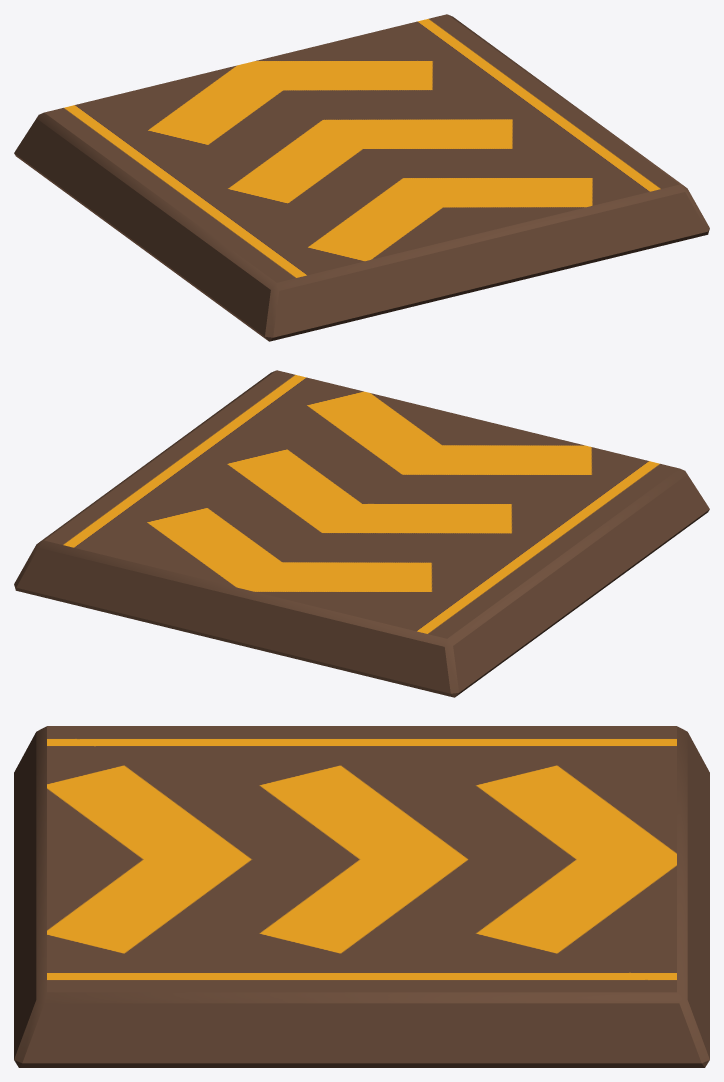
Rendered from Booster_01.fbx.
3 renders of one model, top to bottom at view 1: azimuth 30°, elevation 25°; view 2: azimuth 150°, elevation 25°; view 3: azimuth 270°, elevation 25°, orthographic. The views are drawn at different scales.
Visible parts, largest first — view 1: Obstacle_Booster_01; view 2: Obstacle_Booster_01; view 3: Obstacle_Booster_01.
Boxes of the visible parts, left/top/right/bottom form: Obstacle_Booster_01: left=14, top=14, right=709, bottom=341; Obstacle_Booster_01: left=14, top=370, right=709, bottom=697; Obstacle_Booster_01: left=14, top=726, right=709, bottom=1067.
Bounding box in the file's own units: 99.18 × 10 × 99.18.
1 material, 1 textured.
